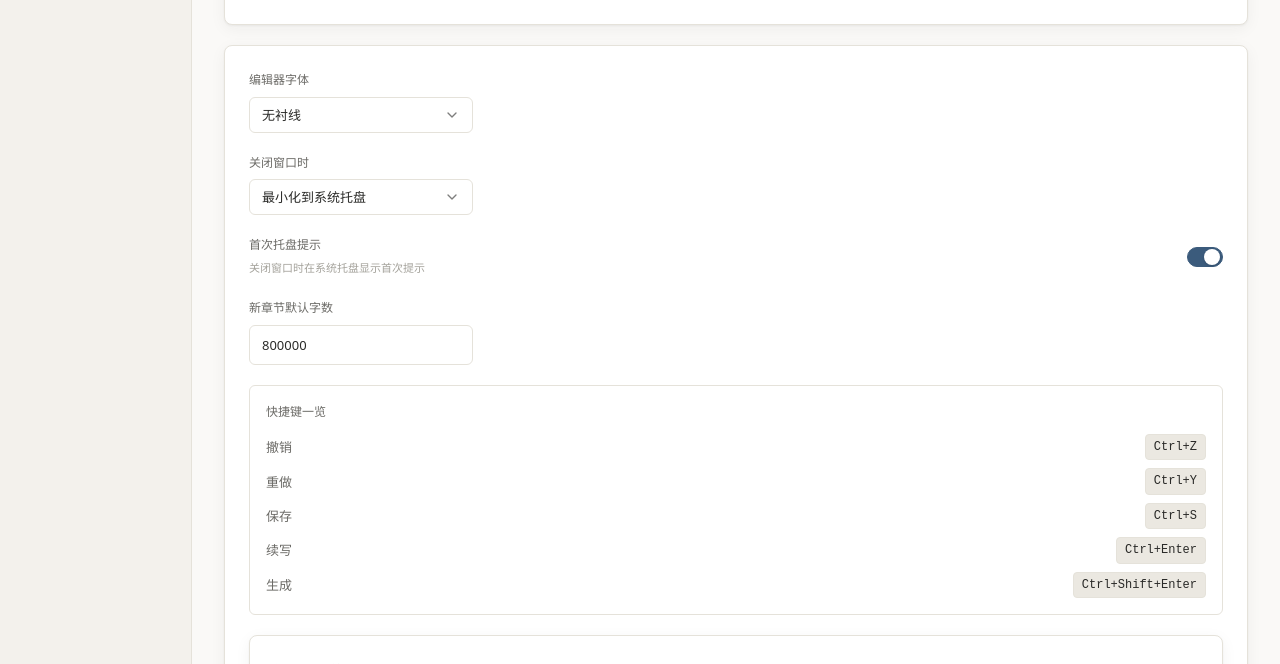
Test: 设置页 — 常规分类 › 即改即存：新章节默认字数输入 1000 失焦 → 真实 PATCH config.default_words + toast「已保存」（#105 修复批：假 toast → 真实持久化）
(page scrolled)
Replace the text in the number field named "新章节默认字数" with "1000" at (361, 345), box [249,324,473,365]
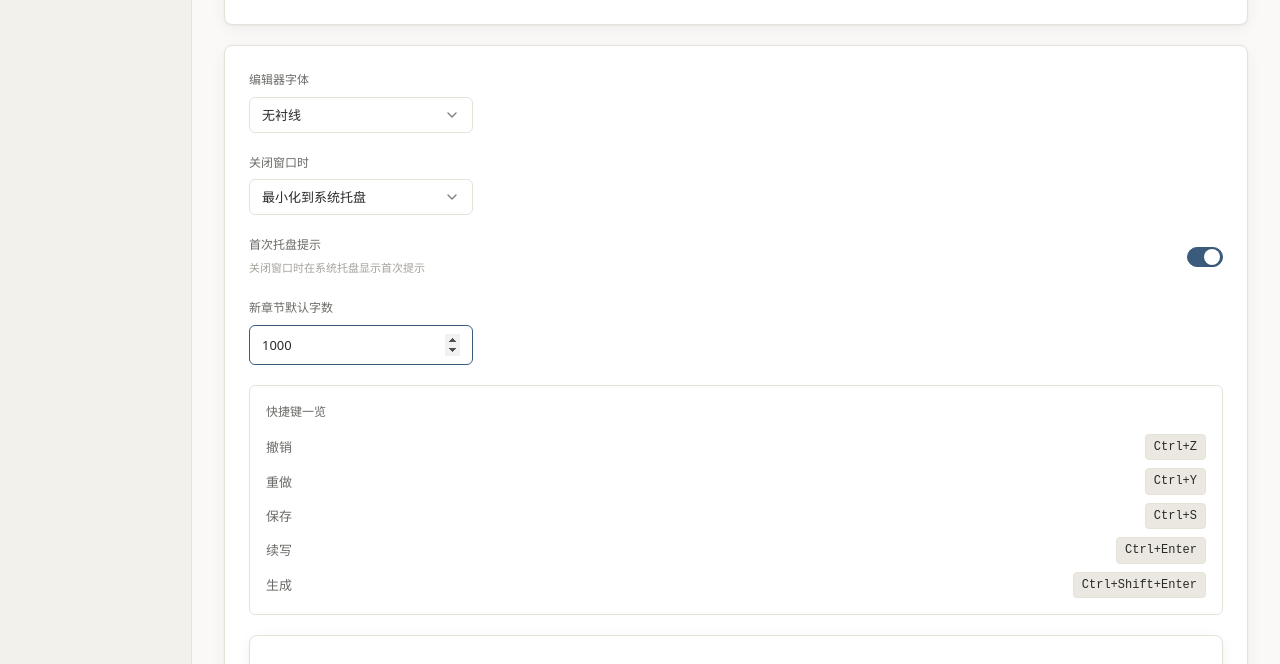
Press Tab
(page scrolled)
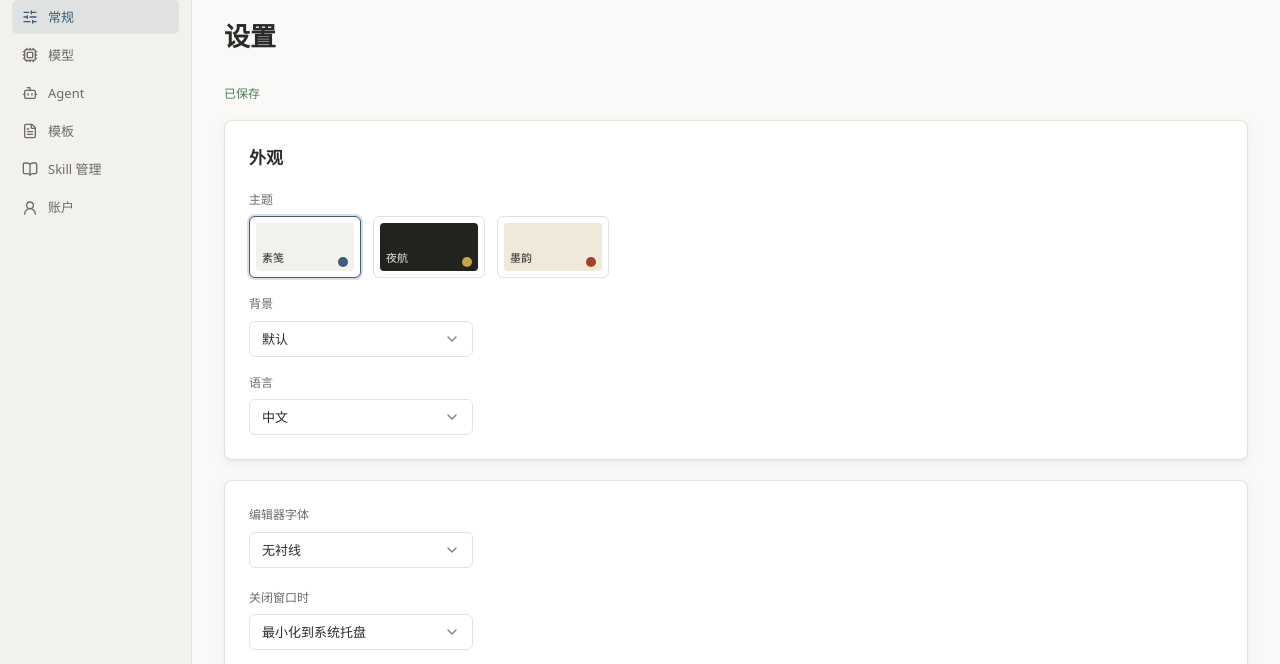
Now the text "已保存" is shown, box [224,85,260,102]
